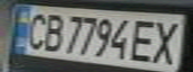4: (109, 16, 136, 62)
7: (60, 12, 84, 54), (78, 14, 96, 56)
9: (93, 15, 115, 58)
B: (36, 10, 66, 52)
C: (21, 9, 51, 51)
E: (127, 16, 163, 64)
X: (145, 17, 187, 66)
